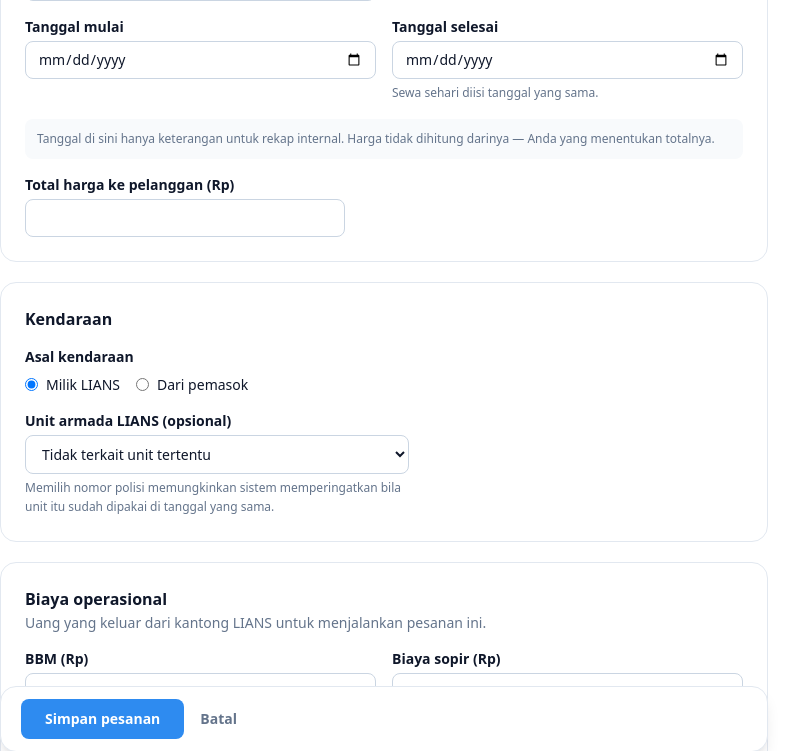
ManualBookingForm — unit armada LIANS › menyembunyikan pilihan unit LIANS saat kendaraannya dari pemasok
The image size is (785, 751).
(page scrolled)
Click the radio button labelled "Dari pemasok" at (142, 384), box [136,378,149,391]
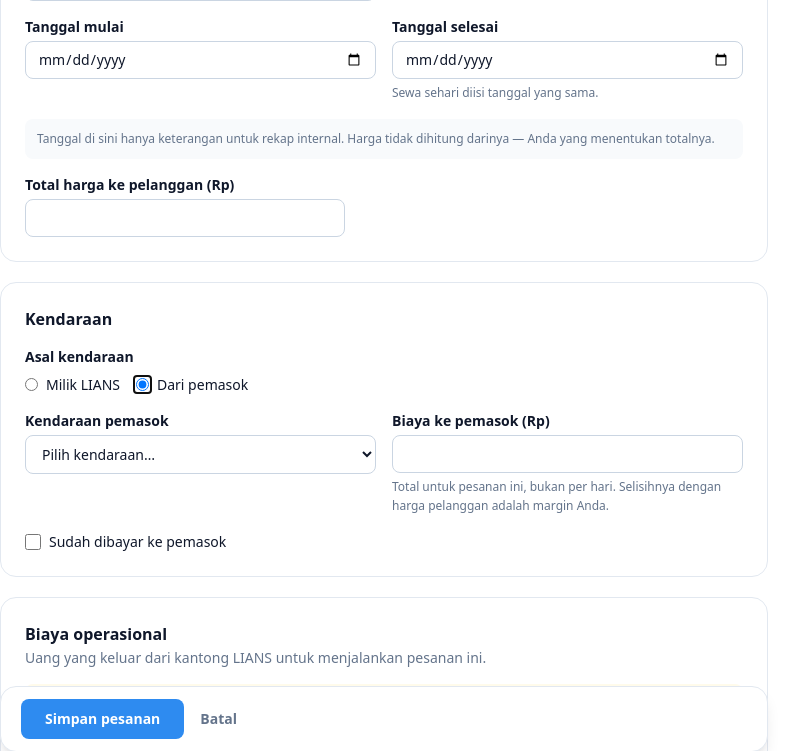
Check: the text labelled "Unit armada" is gone
